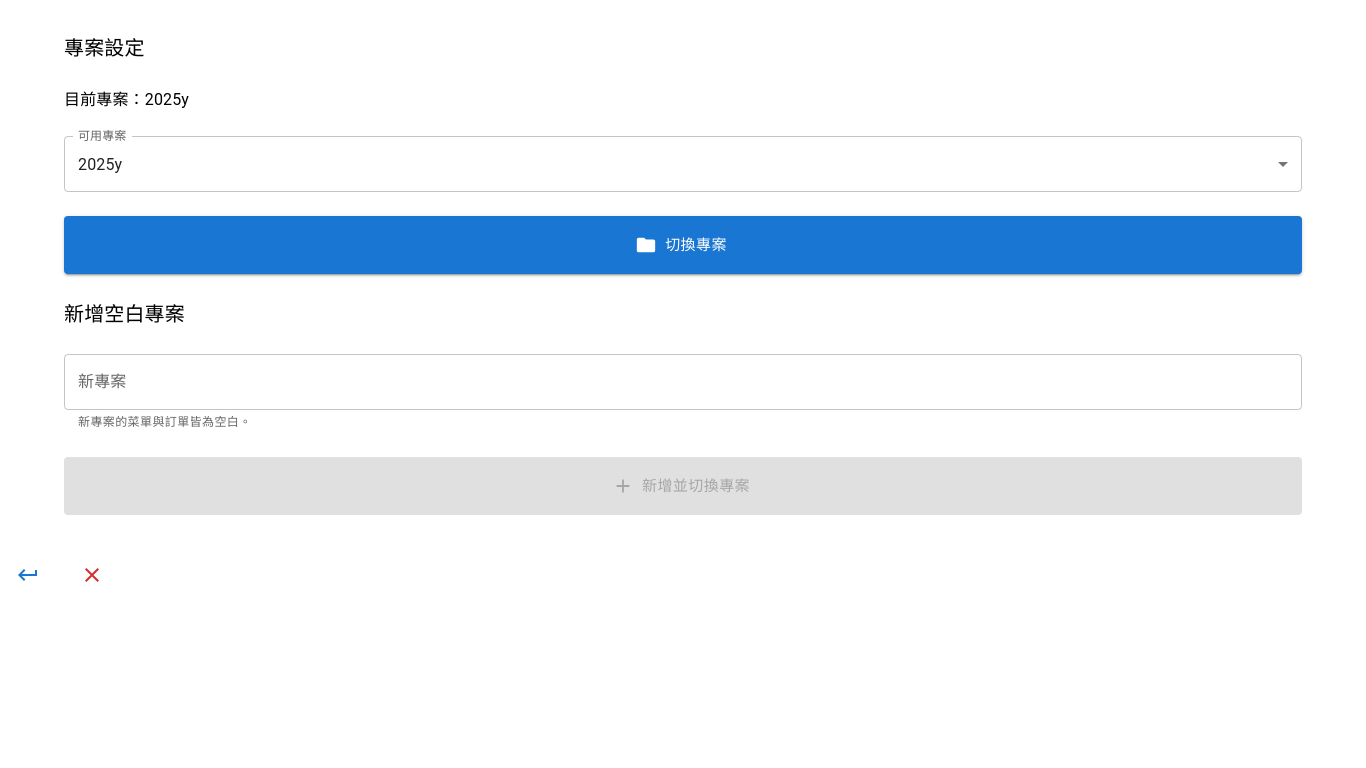
Test: keeps the user on the page when a project change fails
This screenshot has width=1366, height=768.
What coordinates should you click on to do the following:
click the button "切換專案"
I would click on:
 (683, 245)
Its box is [64, 216, 1302, 274].
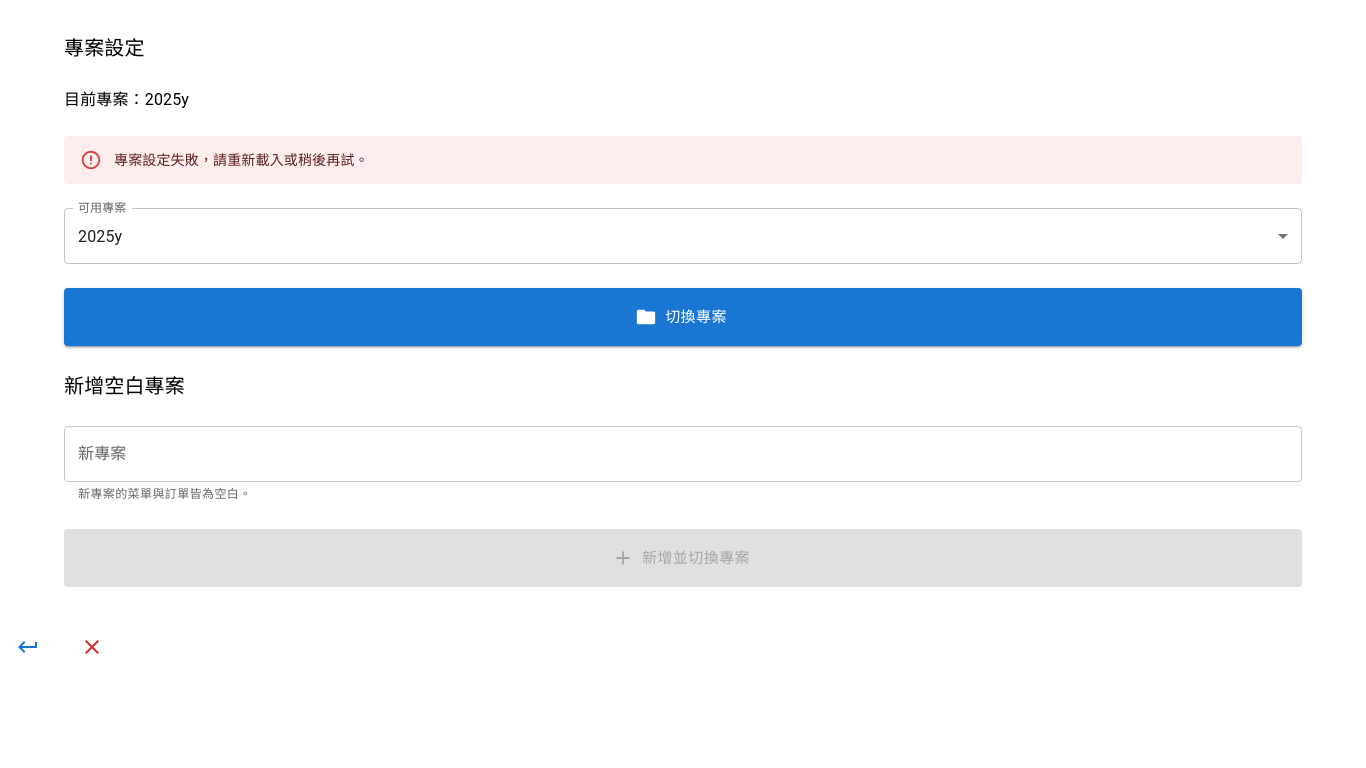
Result: the message shows "專案設定失敗" at [114, 152, 369, 168]
